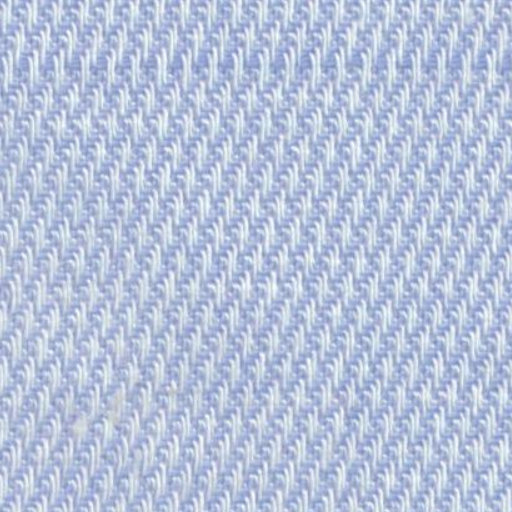TuoSha: (12, 27, 496, 106)
